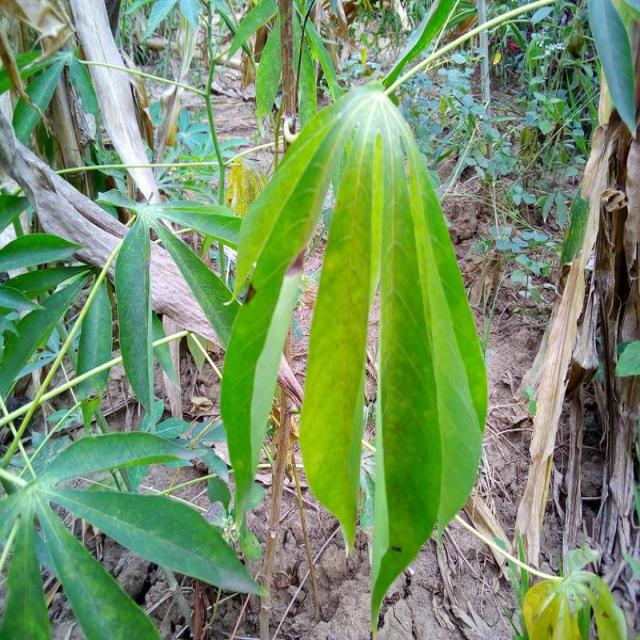cassava leaf: (220, 79, 488, 635)
